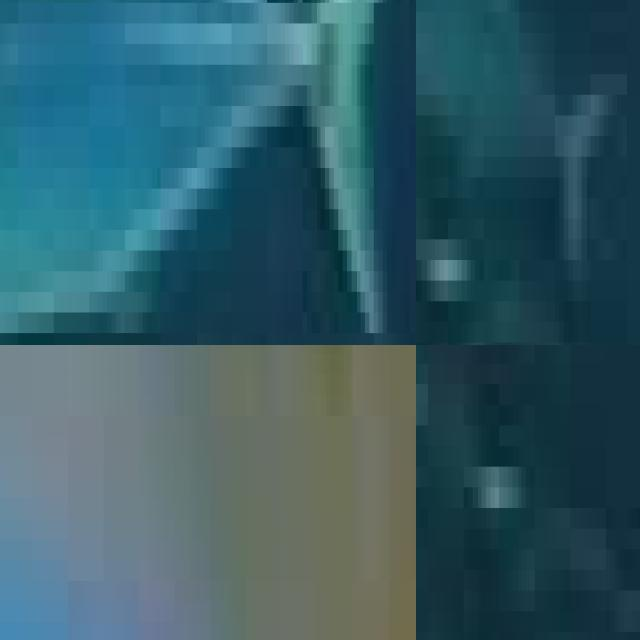fish: (0, 0, 416, 345), (0, 345, 416, 640)
